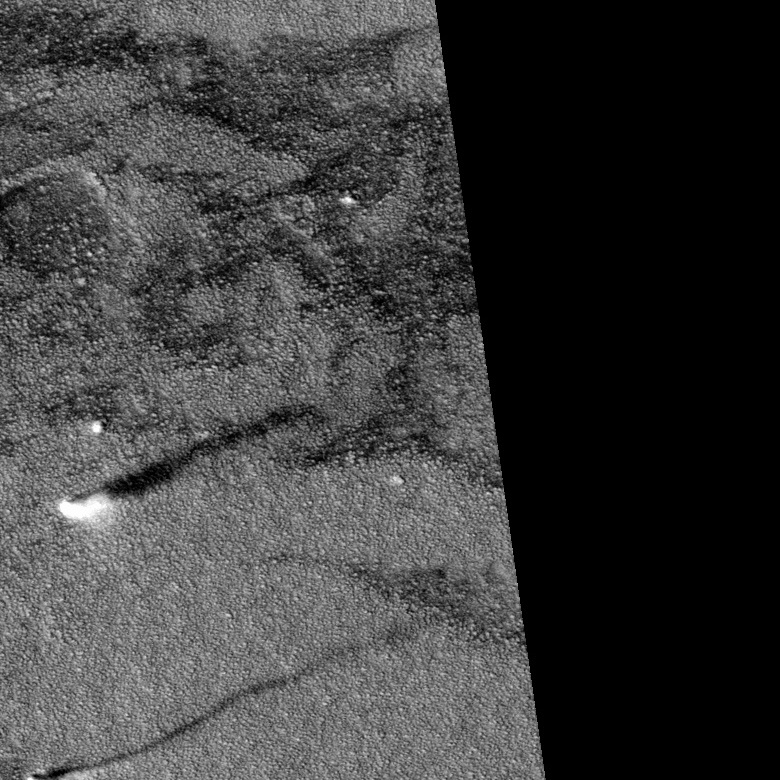dust_devil: (24, 621, 423, 780), (55, 401, 332, 522)
